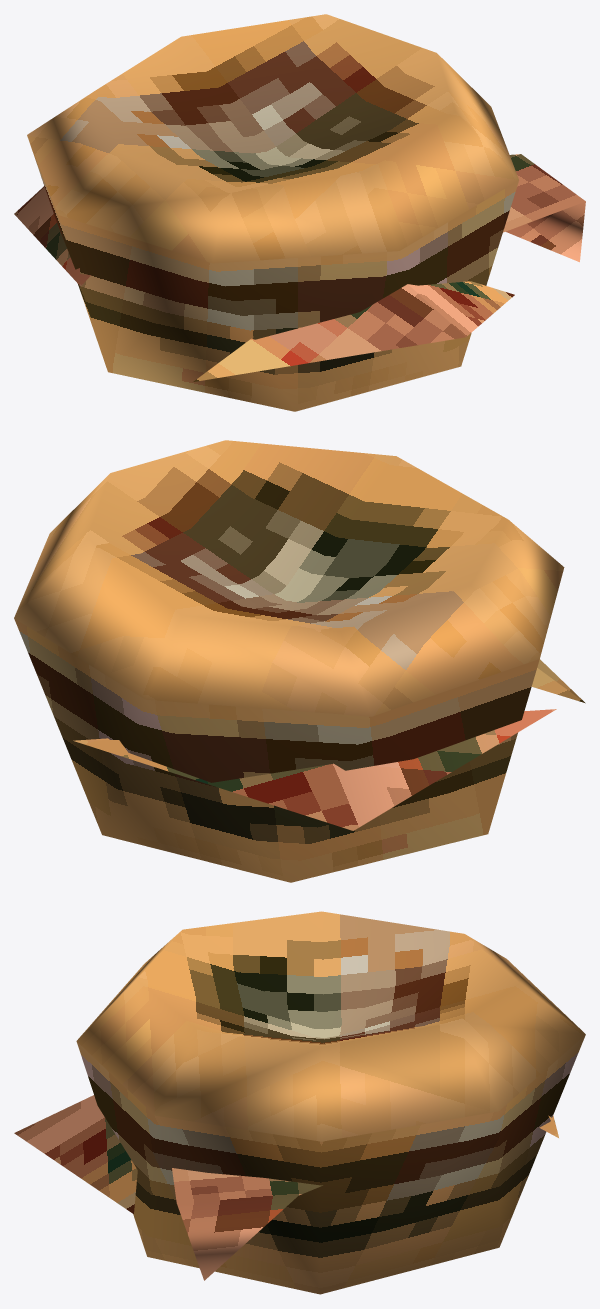
The model's file is edb_food_sandwich_s1_l2.fbx.
3 renders of one model, top to bottom at view 1: azimuth 30°, elevation 25°; view 2: azimuth 150°, elevation 25°; view 3: azimuth 270°, elevation 25°, orthographic. The views are drawn at different scales.
Visible parts, largest first — view 1: mesh_node; view 2: mesh_node; view 3: mesh_node.
Part boxes in pixels (x1,y1,x2,y2): mesh_node: [14, 14, 585, 411]; mesh_node: [14, 440, 585, 882]; mesh_node: [14, 911, 585, 1294].
Bounding box in the file's own units: 0.2085 × 0.1031 × 0.2183.
1 material, 1 textured.
